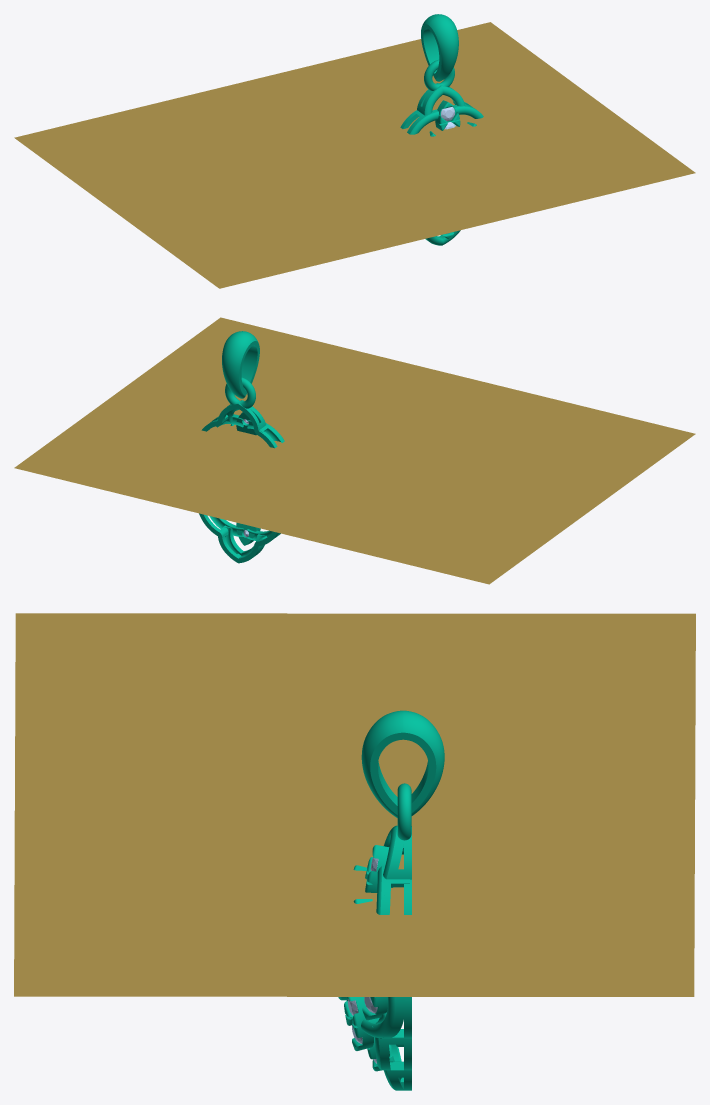
3 views of the same model, one above another, from view 1: azimuth 30°, elevation 25°; view 2: azimuth 150°, elevation 25°; view 3: azimuth 270°, elevation 25° (orthographic). The views are drawn at different scales.
Visible parts, largest first — view 1: 6 am 3dm(front).3dm; view 2: 6 am 3dm(front).3dm; view 3: 6 am 3dm(front).3dm.
Part boxes in pixels (x1,y1,x2,y2): 6 am 3dm(front).3dm: (14,14,695,288); 6 am 3dm(front).3dm: (14,317,695,584); 6 am 3dm(front).3dm: (14,613,695,1090).
Bounding box in the file's own units: 7.52 × 3.44 × 5.65.
